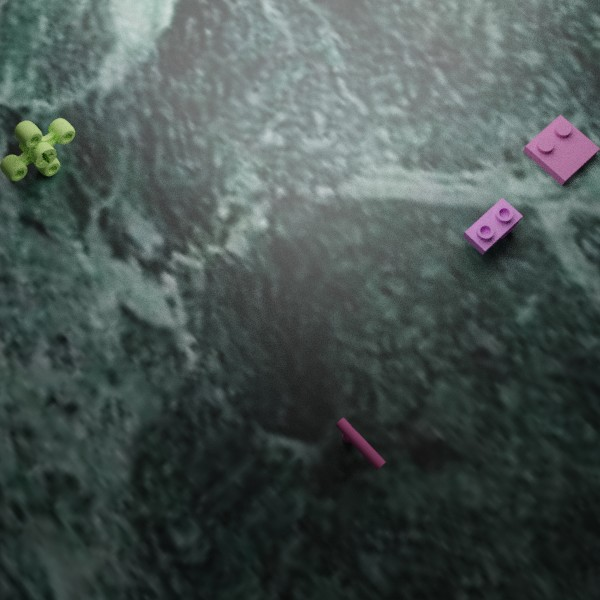lego: (522, 114, 600, 185), (0, 118, 75, 181), (462, 197, 522, 255), (335, 417, 385, 470)
